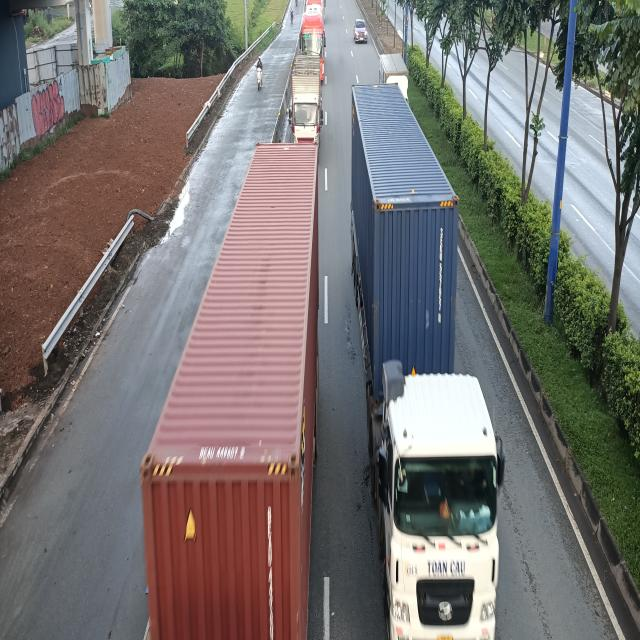car: (354, 21, 368, 44)
coach: (297, 0, 325, 77)
container: (143, 148, 318, 640), (349, 88, 503, 638)
truck: (291, 50, 324, 142)
